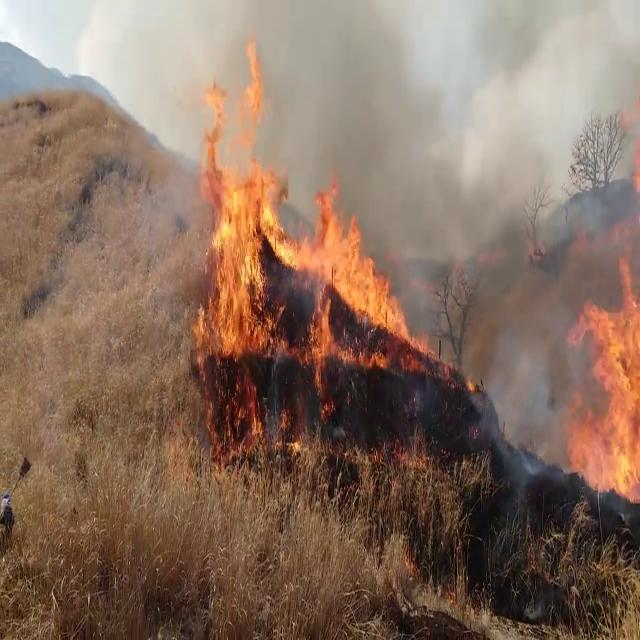Fire: (194, 58, 420, 438), (560, 124, 640, 508)
Smoke: (429, 70, 605, 474), (270, 0, 487, 245)
